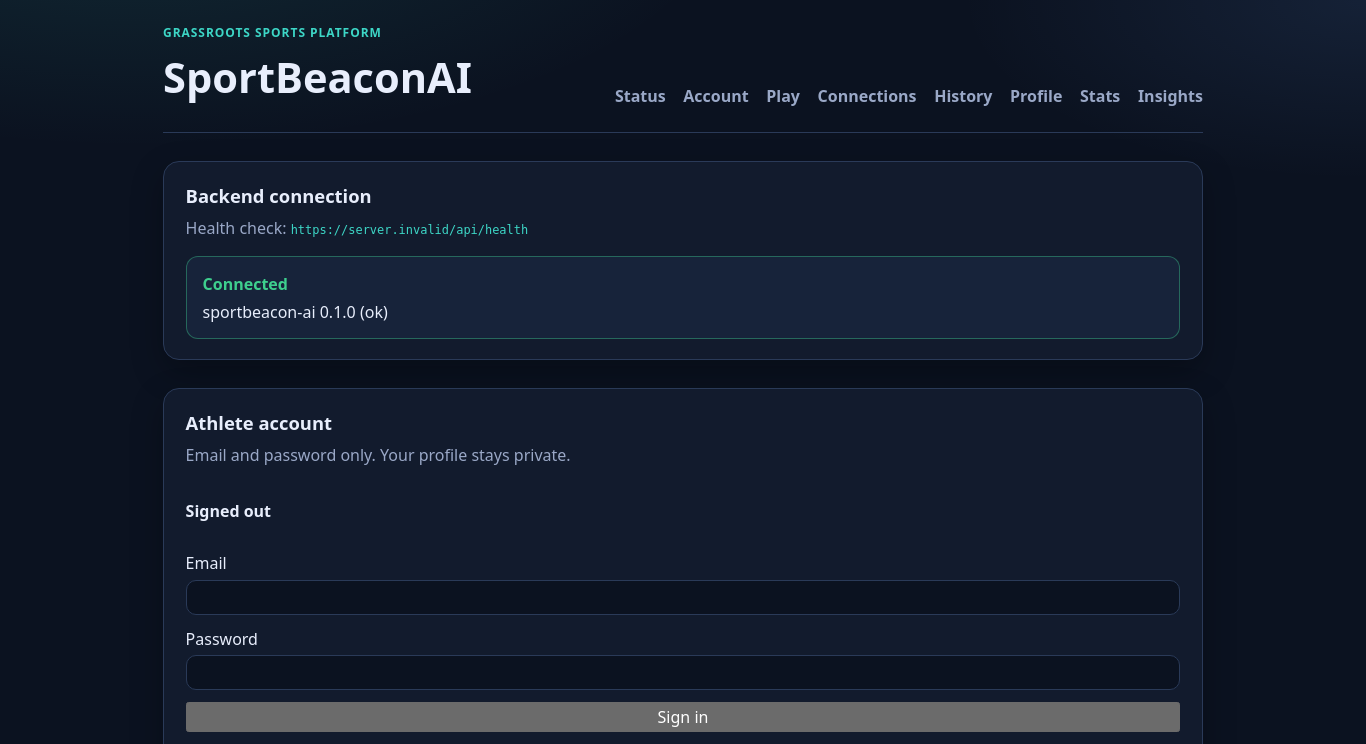
Scenario: SportBeaconAI athlete workspace › renders active and upcoming runs with their places
Step 1. Type "ada@example.com" into the field labelled "Email" → point(683, 597), box [186,580,1180,615]
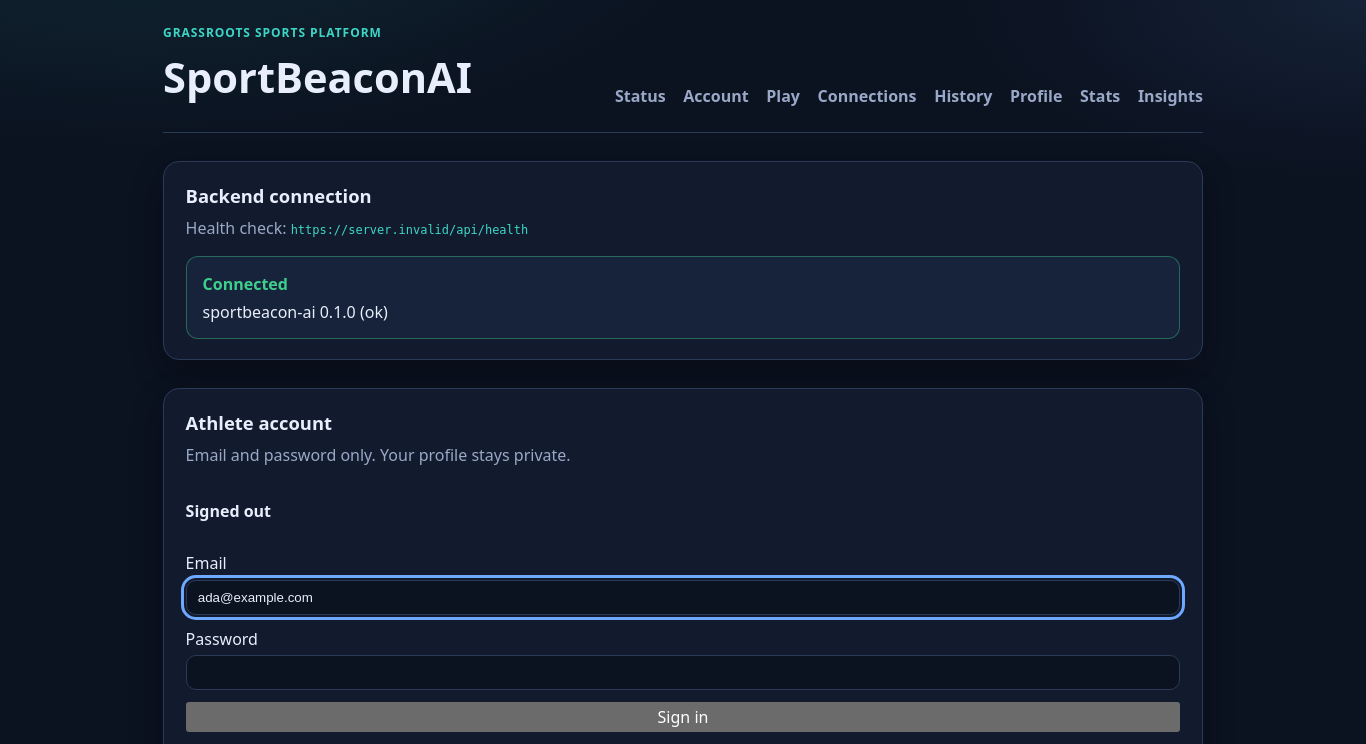
Step 2. Type "secret1" into the password field labelled "Password" → point(683, 673), box [186,655,1180,690]
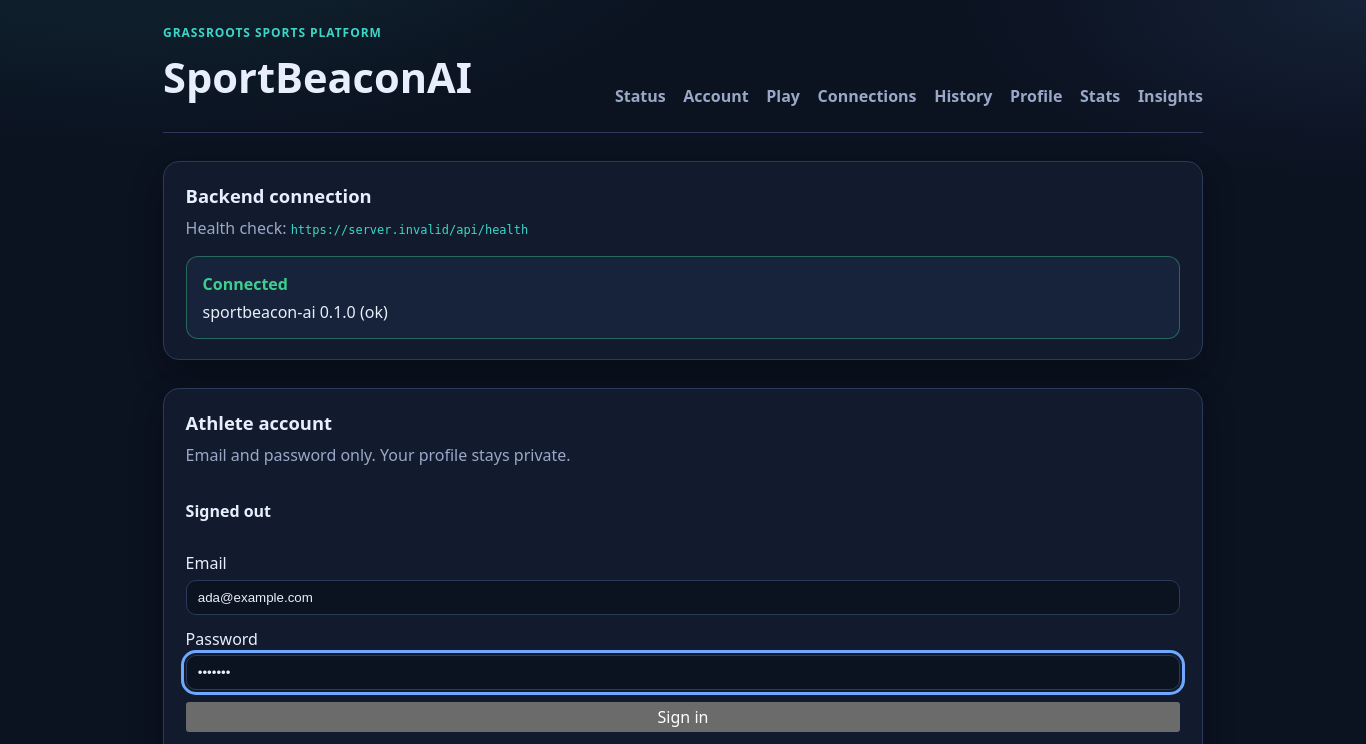
Step 3. Click the button "Sign in" → point(683, 717), box [186,702,1180,732]
(page scrolled)
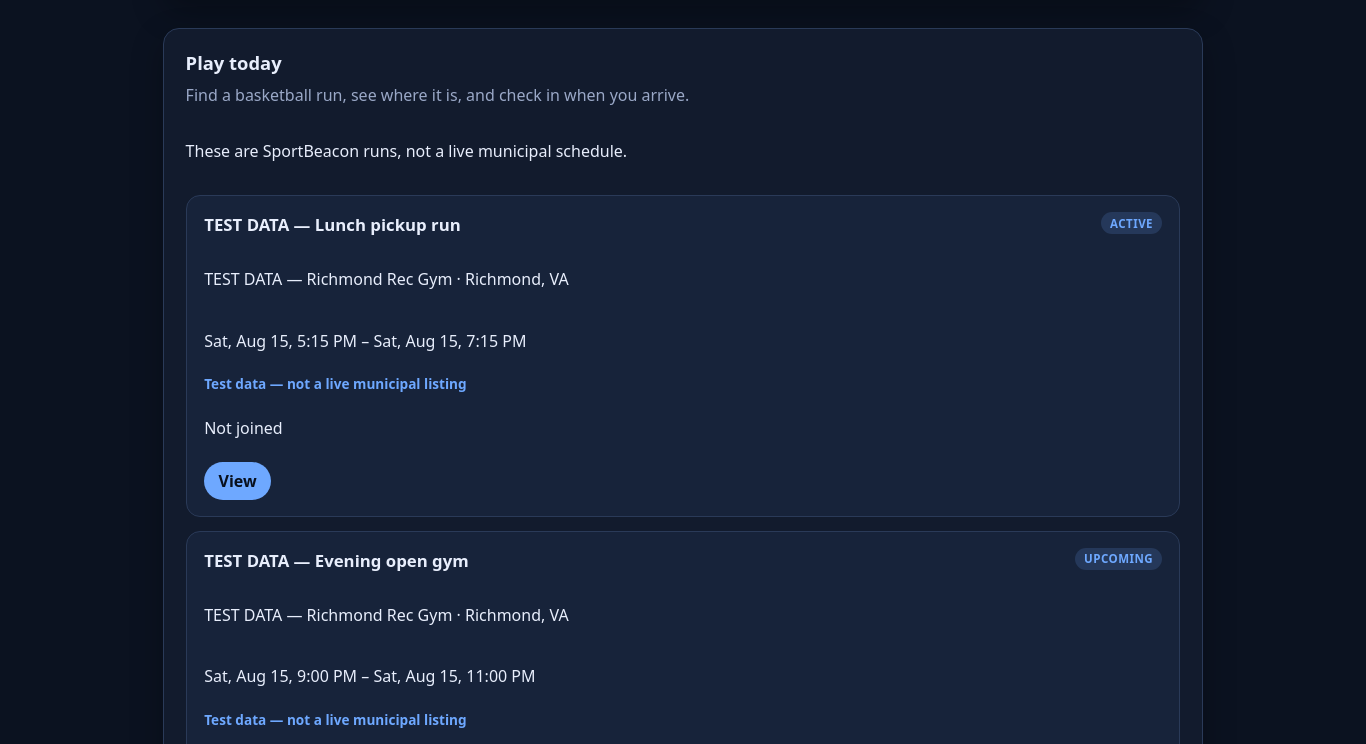
Check: the list item with test id "run-card-test-run-basketball-active" shows "TEST DATA — Lunch pickup run", box [204,213,461,236]
Check: the list item with test id "run-card-test-run-basketball-active" shows "TEST DATA — Richmond Rec Gym", box [204,268,452,290]
Check: the list item with test id "run-card-test-run-basketball-active" shows "Active", box [1110,216,1153,231]
